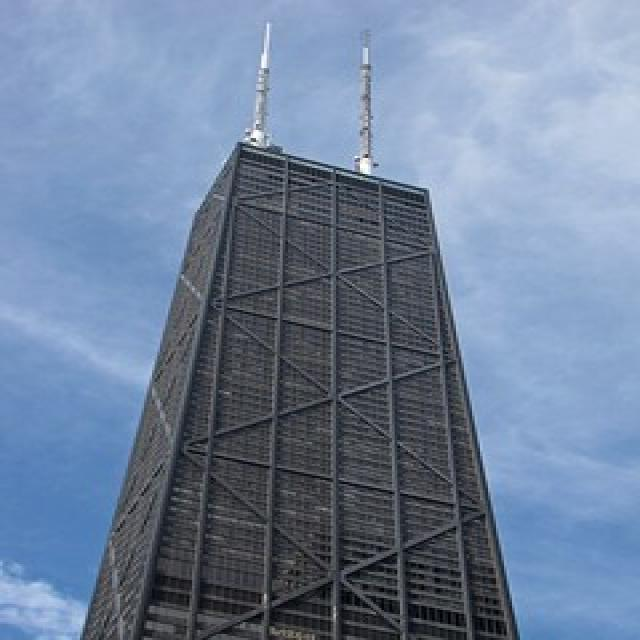Normal_building: (72, 137, 525, 637)
